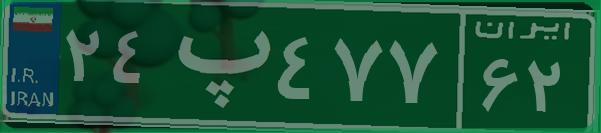2: (57, 26, 110, 107), (525, 38, 570, 115)
4: (273, 28, 330, 110), (110, 28, 158, 105)
6: (475, 38, 525, 113)
7: (385, 28, 445, 110), (330, 28, 385, 110)
پ: (158, 15, 273, 115)
